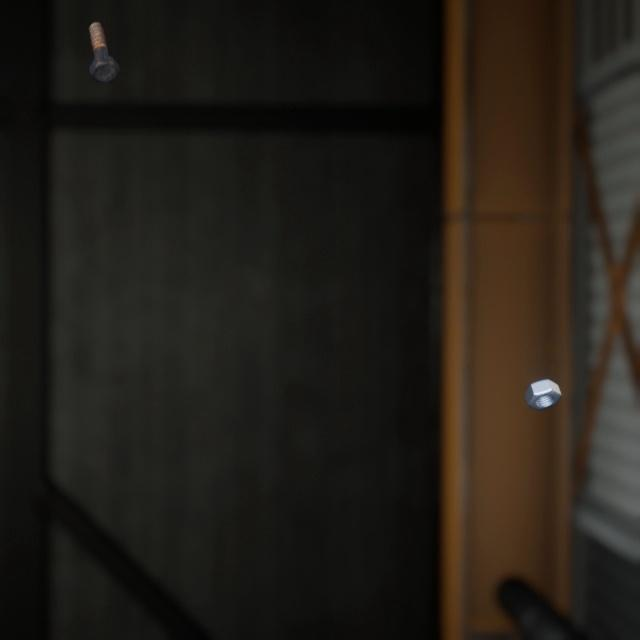bolt: (84, 9, 124, 77)
nut: (519, 355, 566, 395)
